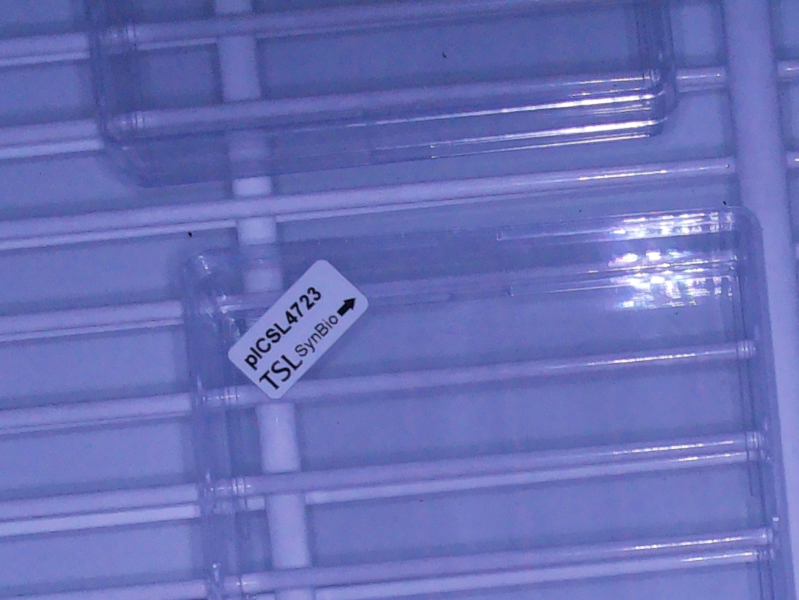plate: (180, 203, 794, 600), (86, 1, 679, 188)
